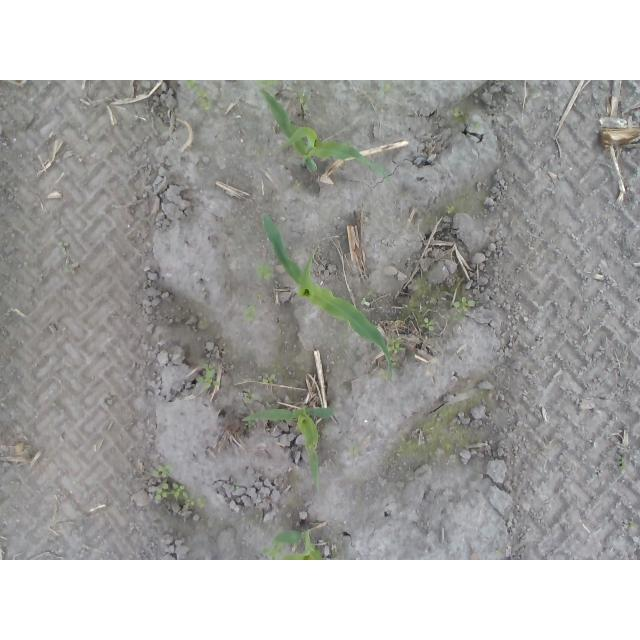Maize: (262, 210, 395, 383), (254, 83, 390, 180), (242, 407, 337, 497), (264, 522, 330, 560)
Weeds: (154, 465, 207, 510), (187, 81, 213, 111), (57, 241, 79, 275), (195, 363, 221, 391), (454, 297, 479, 314), (298, 89, 312, 115), (255, 263, 274, 282), (244, 305, 258, 323), (361, 291, 377, 306), (419, 317, 434, 332), (623, 521, 640, 534), (349, 444, 363, 457), (389, 343, 407, 353), (261, 372, 275, 384), (618, 455, 627, 473), (454, 106, 467, 118), (243, 388, 254, 402), (467, 124, 482, 133), (257, 81, 275, 88), (245, 419, 256, 430), (385, 86, 395, 95), (292, 179, 300, 188)
